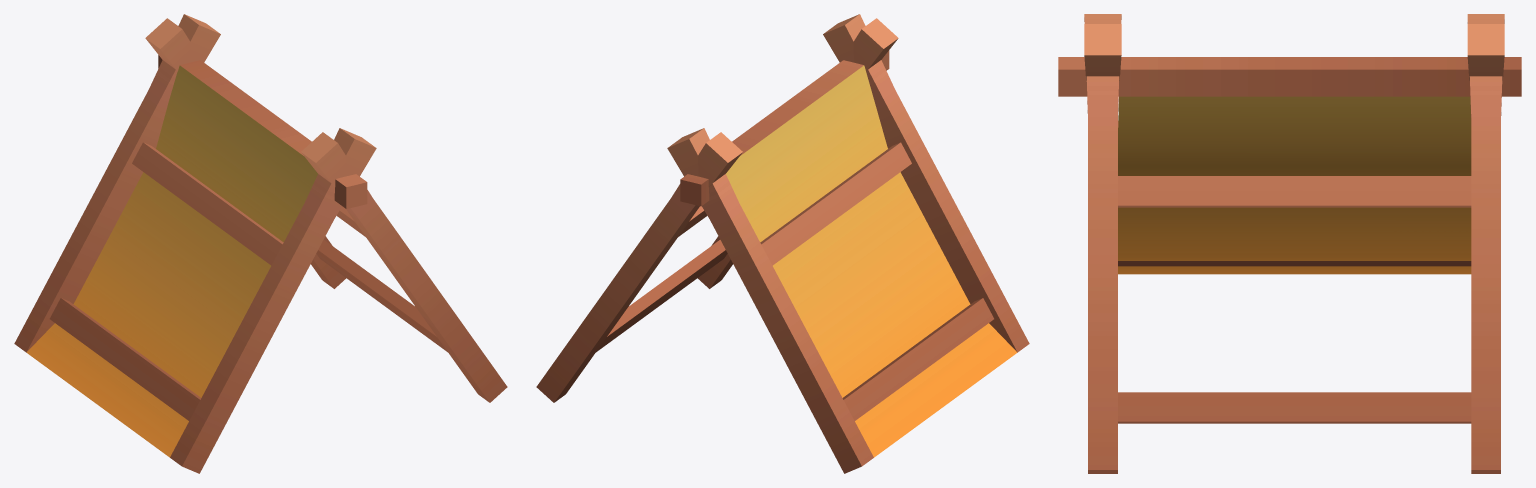
File: tent-canvas-half.gltf
3 renders of one model, left to right at view 1: azimuth 30°, elevation 25°; view 2: azimuth 150°, elevation 25°; view 3: azimuth 270°, elevation 25°, orthographic. The views are drawn at different scales.
Parts seen in each view (by area): view 1: tent-canvas-half; view 2: tent-canvas-half; view 3: tent-canvas-half.
Part boxes in pixels (left/top/right/bottom): tent-canvas-half: left=14, top=14, right=507, bottom=473; tent-canvas-half: left=536, top=14, right=1029, bottom=473; tent-canvas-half: left=1058, top=14, right=1521, bottom=473.
Size of the model in its own units: 0.5608 by 0.4914 by 0.561.
1 material, 1 textured.
